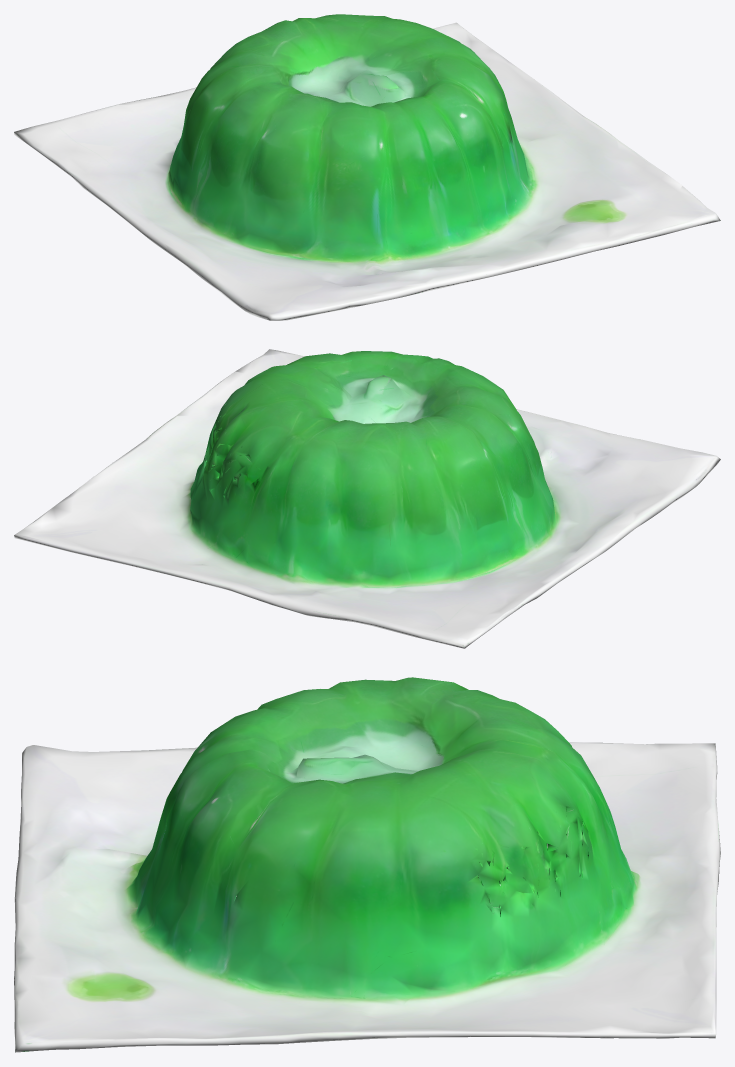
The model's file is Green_jelly_0613123948_texture.fbx.
3 renders of one model, top to bottom at view 1: azimuth 30°, elevation 25°; view 2: azimuth 150°, elevation 25°; view 3: azimuth 270°, elevation 25°, orthographic. The views are drawn at different scales.
Visible parts, largest first — view 1: Mesh1; view 2: Mesh1; view 3: Mesh1.
Boxes of the visible parts, left/top/right/bottom form: Mesh1: left=14, top=14, right=720, bottom=320; Mesh1: left=14, top=349, right=720, bottom=648; Mesh1: left=14, top=677, right=720, bottom=1052.
Bounding box in the file's own units: 198 × 54.63 × 199.
Materials: 1 (1 with a texture image).
